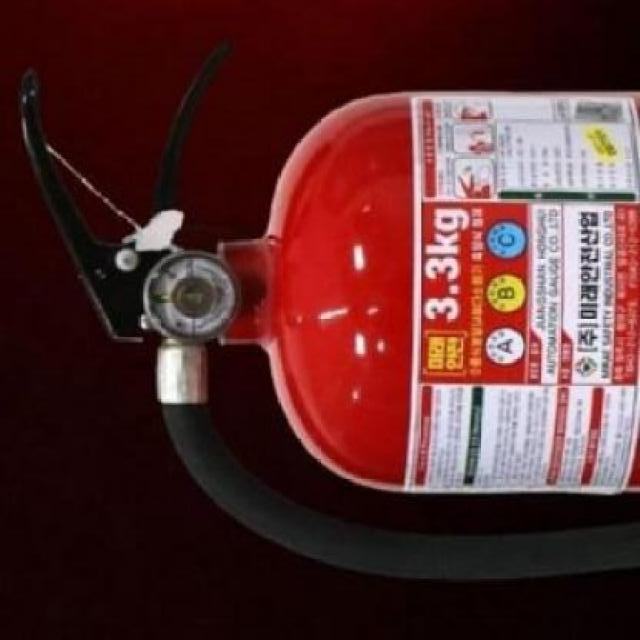fire extinguisher: (17, 40, 640, 583)
